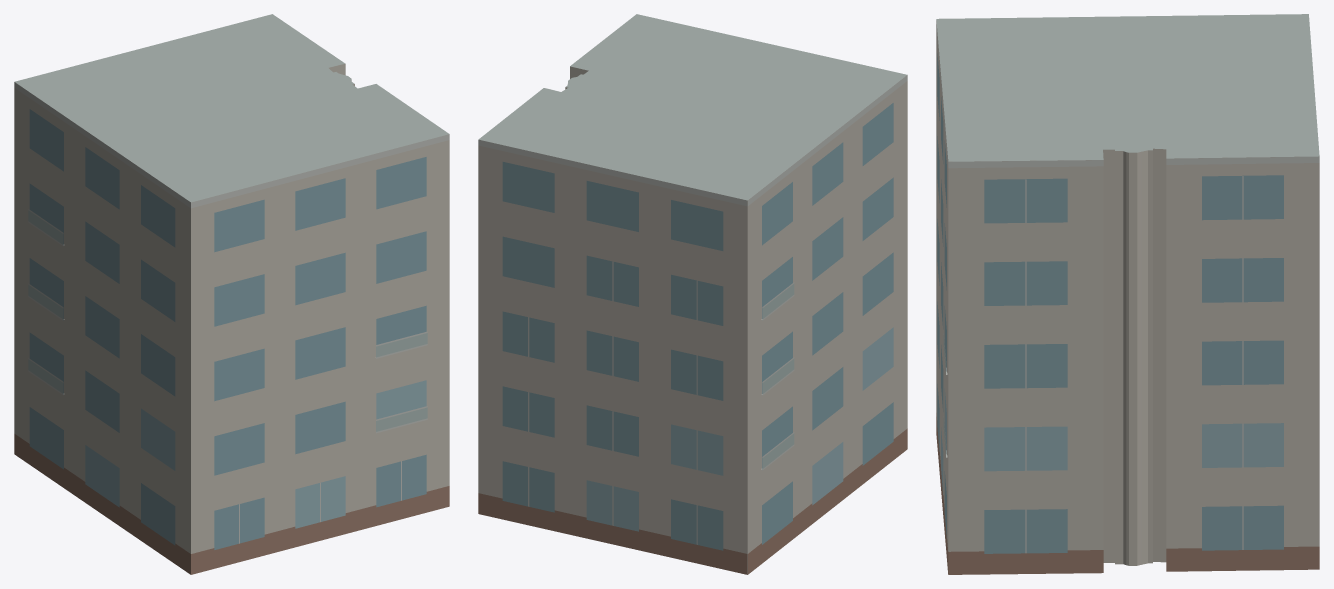
File: survey-upis-32836218.glb
3 views of the same model, side by side, from view 1: azimuth 30°, elevation 25°; view 2: azimuth 150°, elevation 25°; view 3: azimuth 270°, elevation 25° (orthographic). The views are drawn at different scales.
Visible parts, largest first — view 1: survey-upis-32836218.tmp; view 2: survey-upis-32836218.tmp; view 3: survey-upis-32836218.tmp.
Boxes of the visible parts, x1=… form: survey-upis-32836218.tmp: x1=14, y1=14, x2=449, y2=574; survey-upis-32836218.tmp: x1=478, y1=14, x2=907, y2=574; survey-upis-32836218.tmp: x1=936, y1=14, x2=1319, y2=574.
Size of the model in its own units: 11.91 by 15.51 by 13.05.
